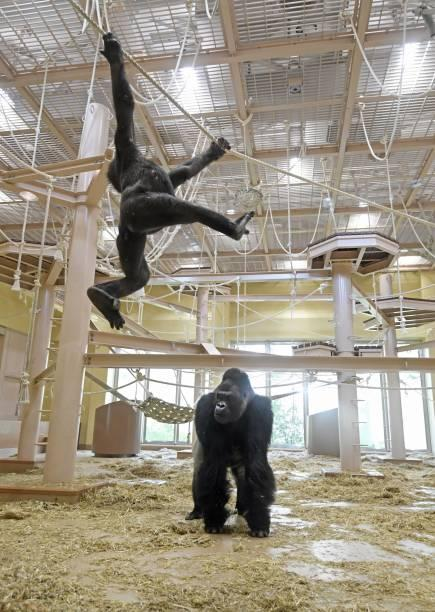goriile_montagne: (177, 355, 321, 548)
